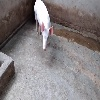heo: (31, 1, 54, 52)
